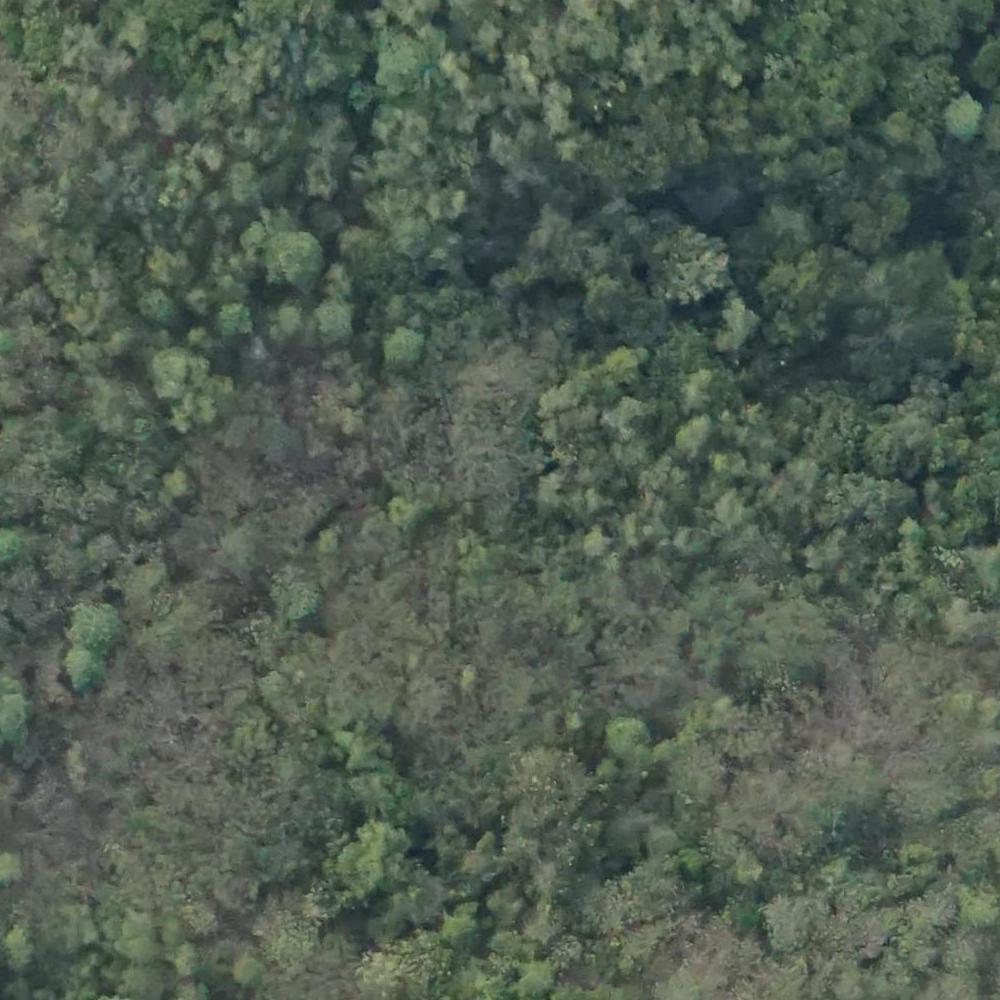tree: (257, 220, 337, 281), (870, 411, 934, 474), (589, 709, 654, 765), (765, 889, 821, 954), (935, 600, 997, 654), (376, 40, 428, 98), (755, 199, 811, 250), (335, 842, 382, 900), (674, 411, 722, 464), (59, 21, 109, 71), (59, 643, 113, 687), (945, 89, 986, 145), (308, 298, 356, 342), (1, 686, 33, 749), (155, 346, 204, 387), (435, 905, 478, 951), (718, 297, 760, 342), (604, 339, 646, 381), (275, 577, 322, 613), (432, 184, 470, 228), (76, 600, 115, 641), (273, 308, 311, 350), (146, 244, 193, 276), (230, 958, 272, 992), (1, 927, 39, 964), (518, 958, 558, 993), (390, 493, 425, 528), (136, 286, 170, 322), (158, 465, 205, 489), (579, 526, 612, 560), (193, 136, 225, 169), (1, 845, 30, 881), (378, 323, 415, 351), (315, 524, 348, 554), (220, 298, 248, 333), (190, 282, 220, 311)
